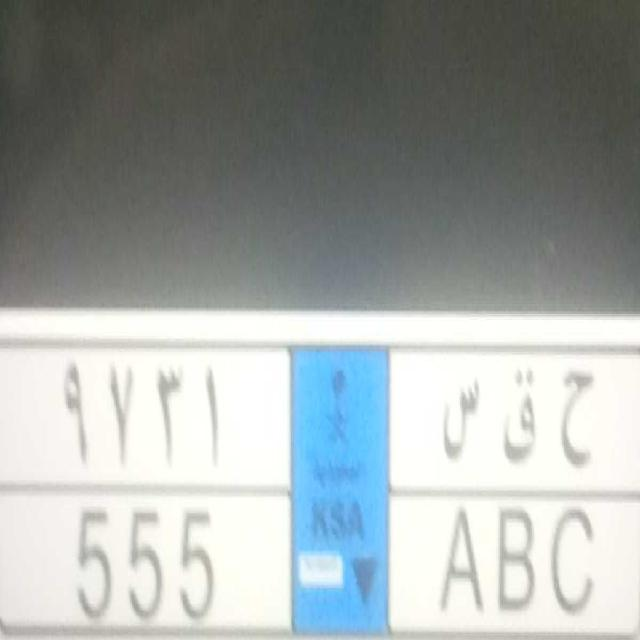license_plate: (19, 484, 632, 640)
